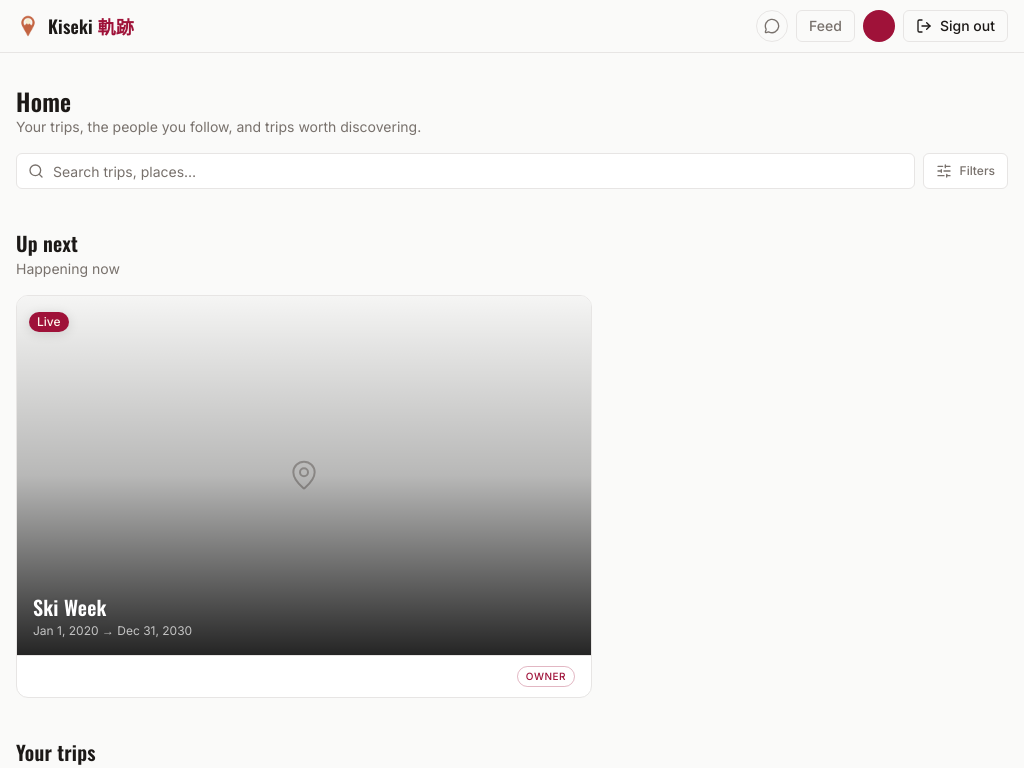
it: plan-a-trip starts a new chat (#351) › reopens the existing thread from the header toggle
Click the button named "Open chat".
click(772, 26)  # box 756,10 -> 788,42
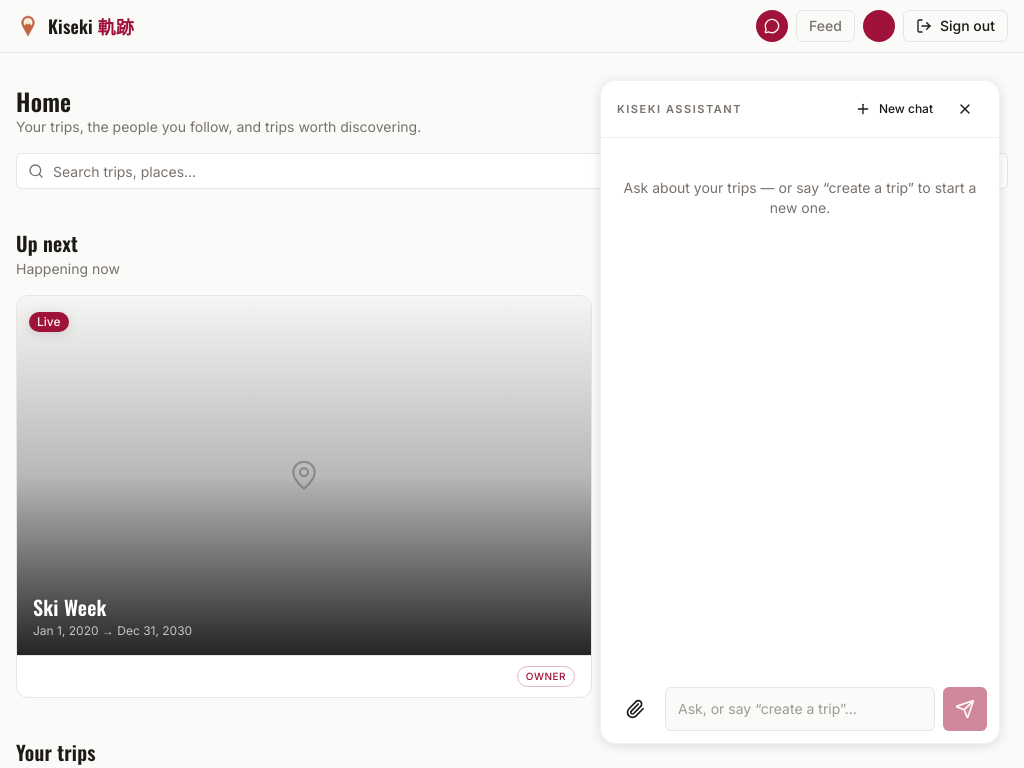
Expected: the text "Kiseki assistant" is shown, 617,101 -> 742,117
